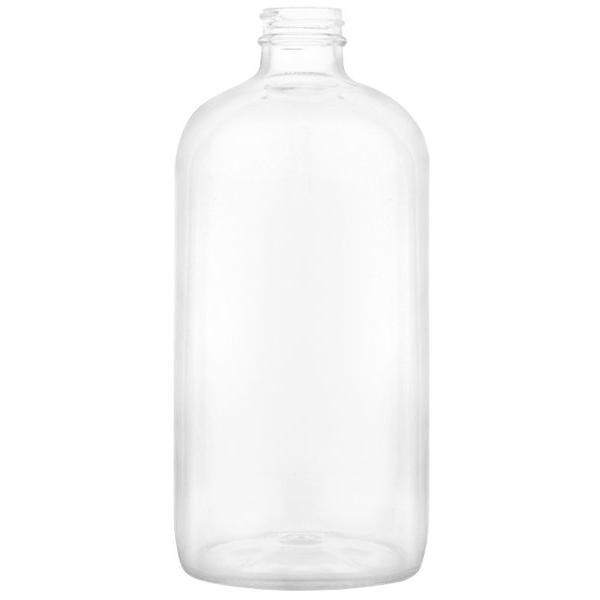glass_bottle: (173, 4, 435, 593)
